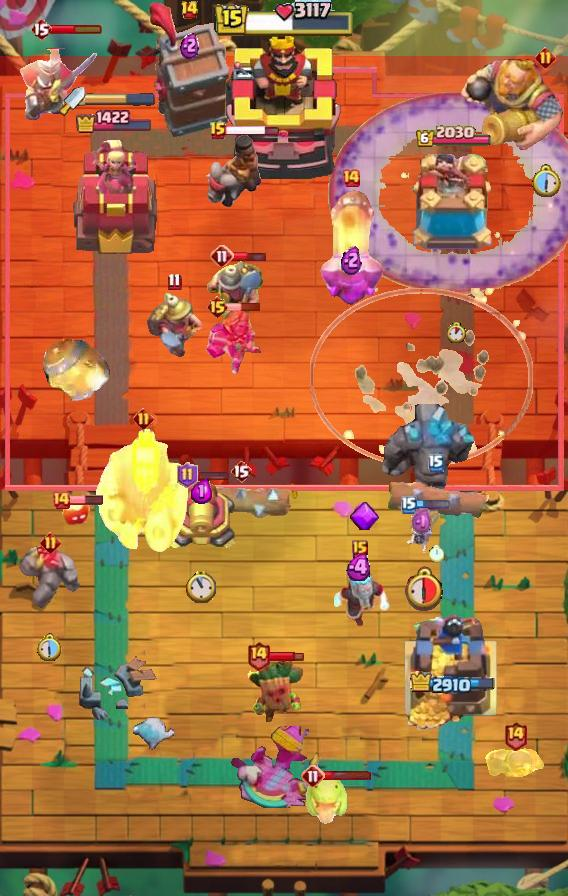bandit: (204, 258, 266, 332), (145, 287, 203, 357)
bar: (70, 138, 158, 256)
bat: (133, 717, 177, 755)
bomber: (62, 496, 90, 528)
cannoneer-tower: (379, 404, 477, 506)
clock: (213, 0, 355, 40)
dart-goblin: (147, 0, 231, 138)
dirt: (37, 328, 113, 408)
electro-spirit: (346, 555, 374, 582), (411, 507, 434, 536), (341, 245, 362, 276), (180, 32, 200, 59), (192, 479, 213, 504)
electro-wizard: (303, 774, 349, 826)
elite-barbarian: (201, 133, 263, 209)
elixir: (401, 565, 443, 611), (531, 164, 562, 198), (186, 570, 216, 602), (37, 633, 63, 662), (446, 322, 466, 343), (429, 546, 444, 563)
emote: (225, 123, 280, 136), (50, 23, 103, 35), (322, 770, 372, 781), (233, 249, 268, 262), (68, 494, 104, 506), (415, 498, 451, 510), (268, 650, 304, 662), (194, 470, 229, 482), (226, 302, 261, 312)
firecracker-evolution: (484, 746, 546, 780)
furnace: (317, 187, 385, 307)
giant-skeleton: (95, 427, 191, 555), (460, 57, 568, 153)
goblin-barrel: (247, 659, 305, 723)
guard: (311, 288, 534, 468)
heal-spirit: (403, 509, 442, 561)
king-tower: (226, 33, 342, 181)
king-tower-bar: (85, 93, 155, 107)
minion: (383, 477, 489, 523), (190, 481, 293, 519)
mortar: (330, 563, 390, 627)
queen-tower: (403, 613, 506, 731), (405, 154, 501, 256)
rocket: (328, 91, 568, 295)
royal-recruit: (165, 480, 237, 554)
selected: (411, 671, 498, 697), (74, 110, 154, 135), (416, 125, 493, 149)
skeleton-king-skill: (350, 502, 380, 530)
tesla-evolution: (204, 303, 262, 377)
text: (245, 641, 270, 672), (504, 721, 529, 752), (210, 244, 234, 268), (301, 764, 325, 788), (207, 295, 230, 319), (178, 462, 199, 488), (30, 17, 52, 41), (230, 459, 252, 483), (536, 47, 557, 69), (133, 407, 154, 429), (39, 532, 60, 553), (180, 0, 200, 20), (341, 168, 361, 188), (51, 490, 71, 510), (209, 121, 227, 141), (428, 454, 444, 472), (401, 496, 417, 514), (352, 540, 368, 558), (167, 273, 181, 291)
valkyrie-evolution: (16, 544, 84, 614)
wall-breaker-evolution: (15, 30, 99, 122)
